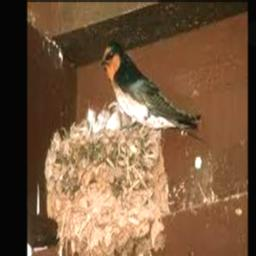Swallow: (101, 42, 200, 132)
